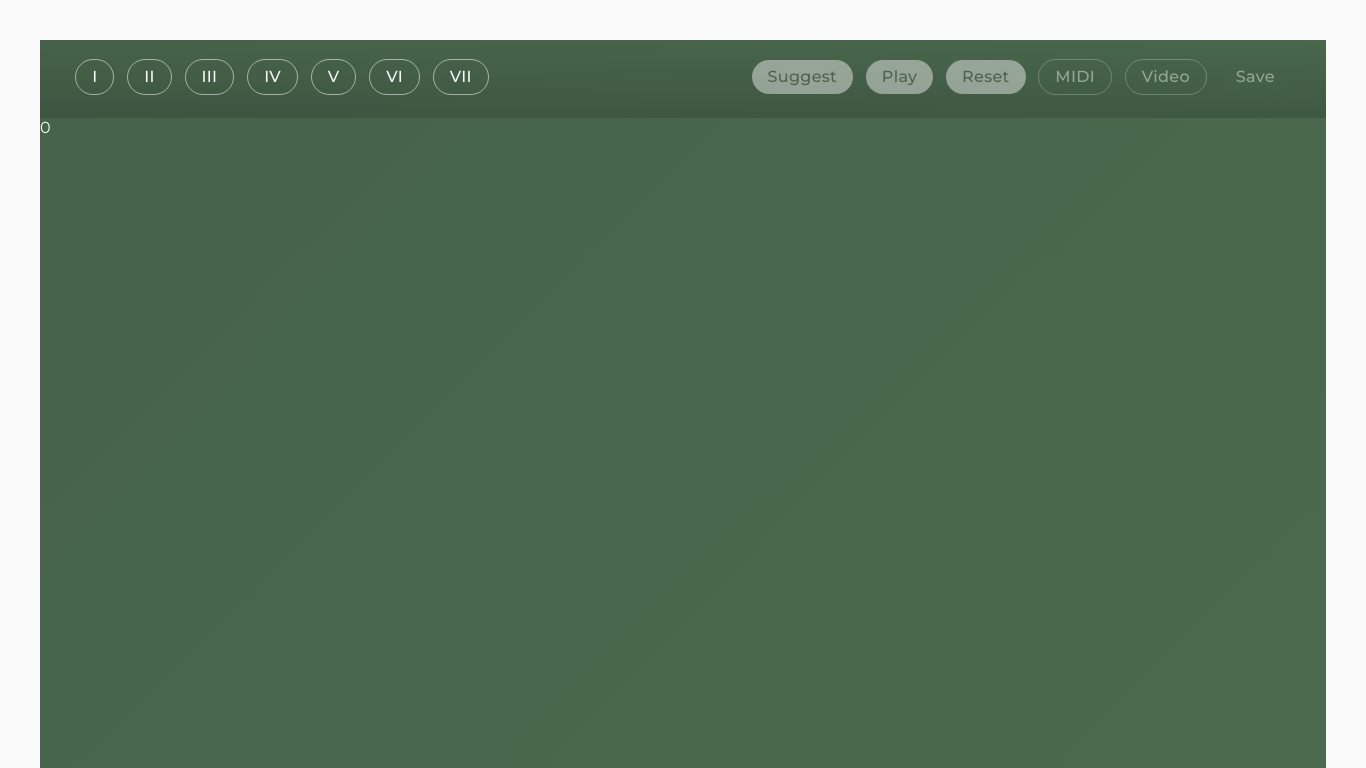
Test: ChordDock › adds chords when numeral buttons are pressed
The width and height of the screenshot is (1366, 768).
Click the button named "Add chord I" at {"x": 95, "y": 77}, box [72,56,118,98]
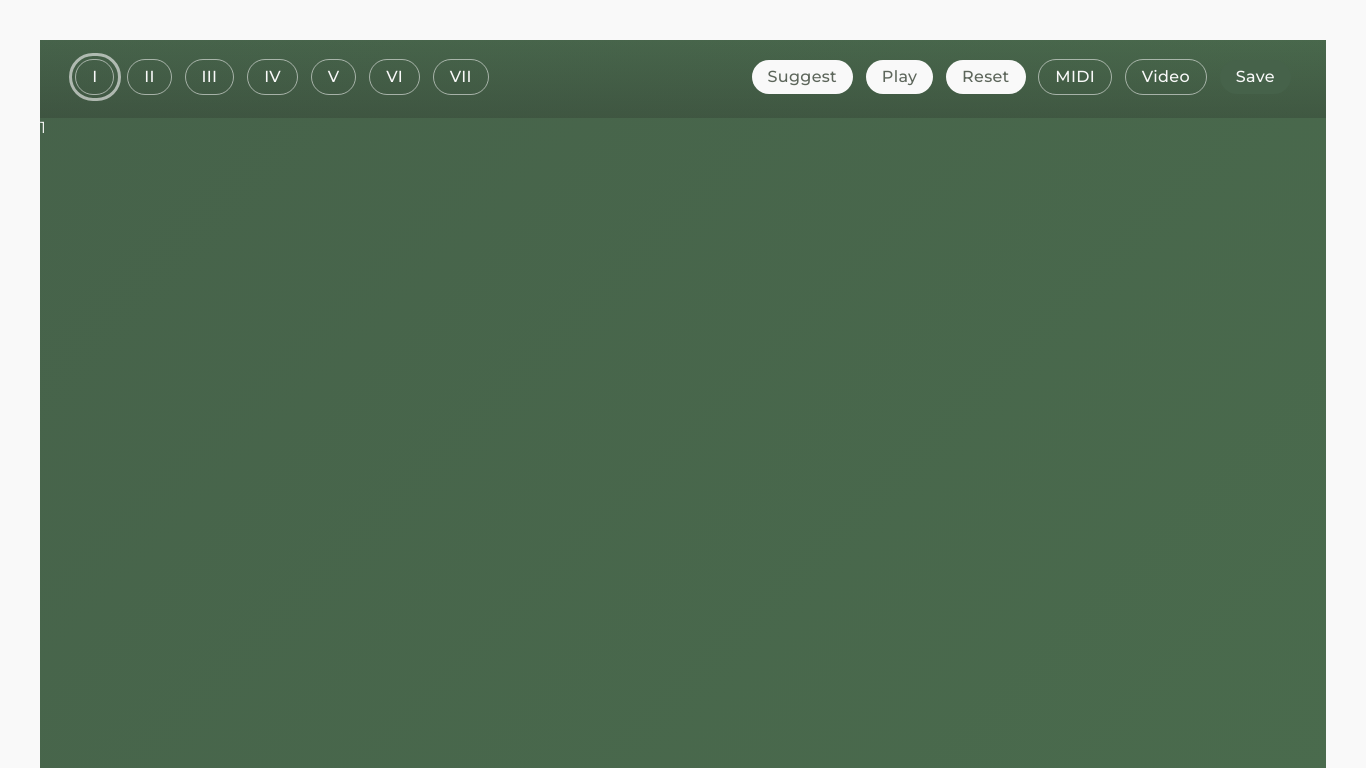
Click the button with aria-label "Add chord IV" at {"x": 273, "y": 77}, box [244,56,301,98]
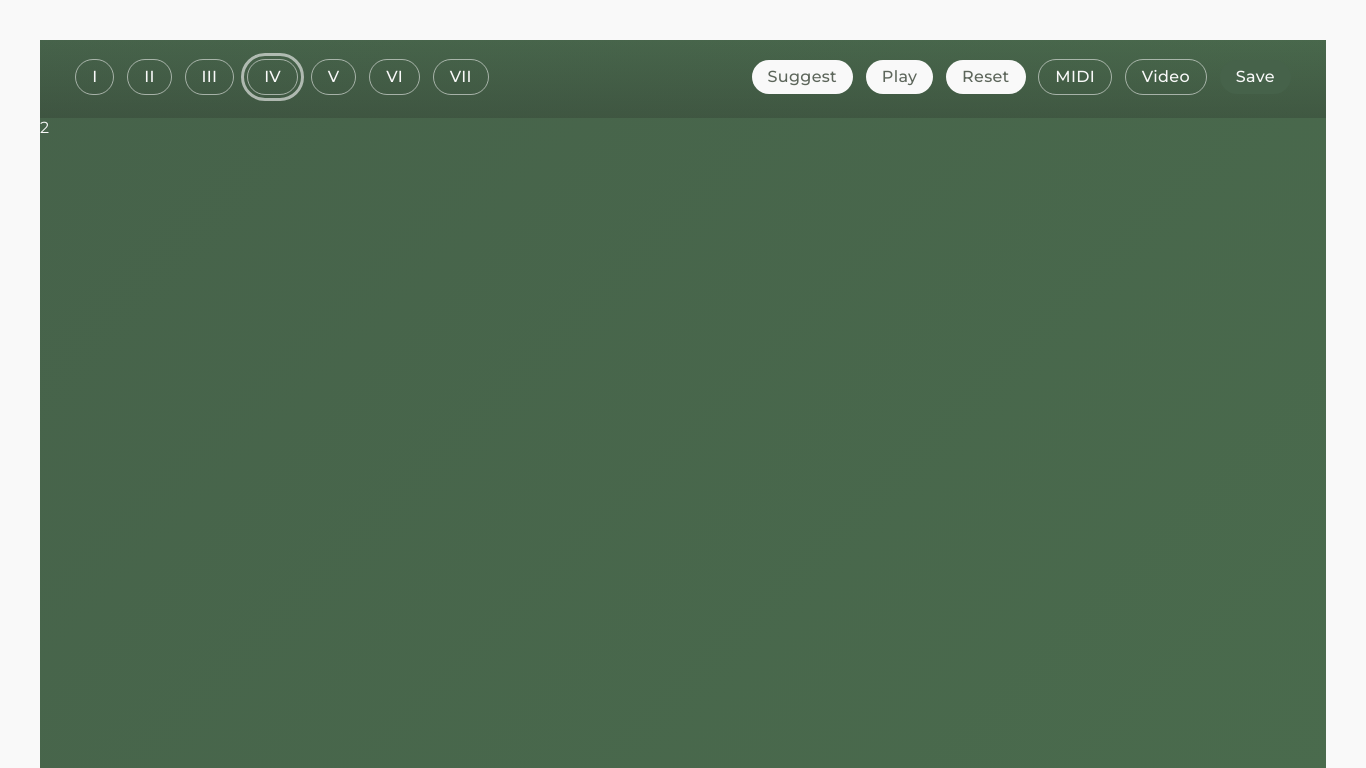
expect the text with test id "count" reads "2": met, box [40,118,49,137]
